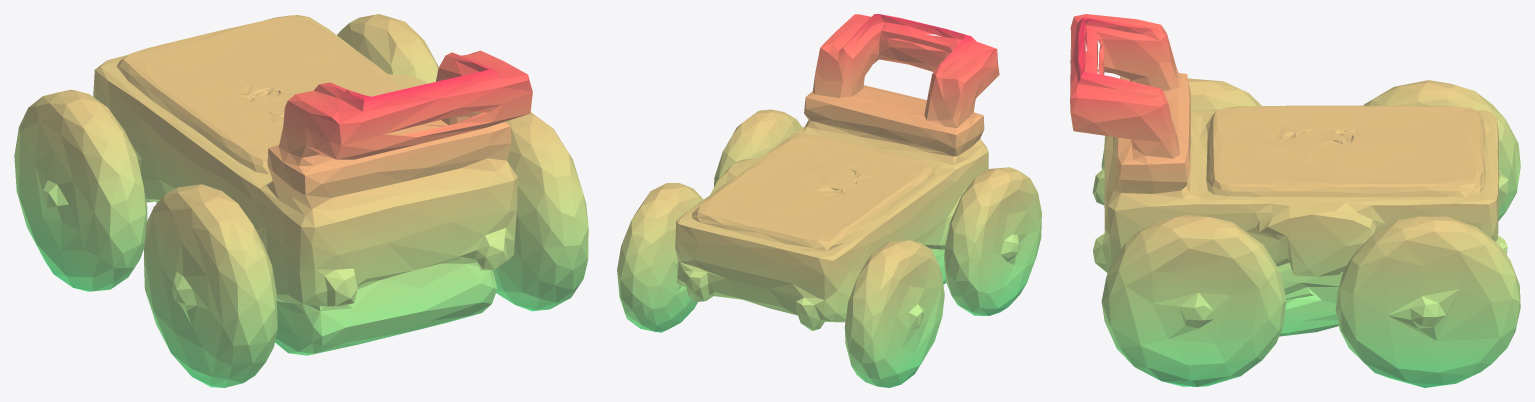
Rendered from 42_cyb_laser_gradient_fish_scales_2882_2026_10_03_de0585.glb.
The picture shows the model from 3 angles, left to right: view 1: azimuth 30°, elevation 25°; view 2: azimuth 150°, elevation 25°; view 3: azimuth 270°, elevation 25°; orthographic projection. The views are drawn at different scales.
Parts seen in each view (by area): view 1: geometry_0; view 2: geometry_0; view 3: geometry_0.
Part boxes in pixels (x1,y1,x2,y2): geometry_0: (14, 14, 588, 387); geometry_0: (617, 14, 1041, 387); geometry_0: (1070, 14, 1520, 387).
Bounding box in the file's own units: 0.8504 × 0.6478 × 0.9735.
